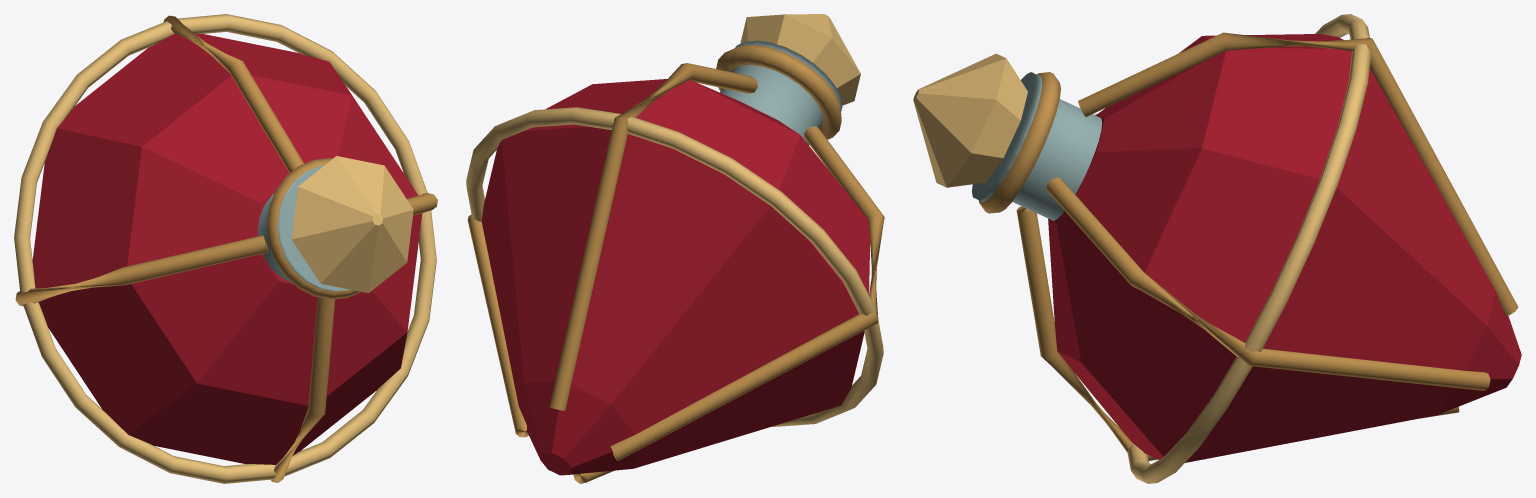
File: full_health.glb
3 renders of one model, left to right at view 1: azimuth 30°, elevation 25°; view 2: azimuth 150°, elevation 25°; view 3: azimuth 270°, elevation 25°, orthographic. The views are drawn at different scales.
Parts seen in each view (by area): view 1: SM_full_health; view 2: SM_full_health; view 3: SM_full_health.
Part boxes in pixels (x1,y1,x2,y2): SM_full_health: (14, 14, 437, 483); SM_full_health: (466, 14, 884, 483); SM_full_health: (913, 14, 1521, 483).
Bounding box in the file's own units: 0.3213 × 0.2904 × 0.3726.
